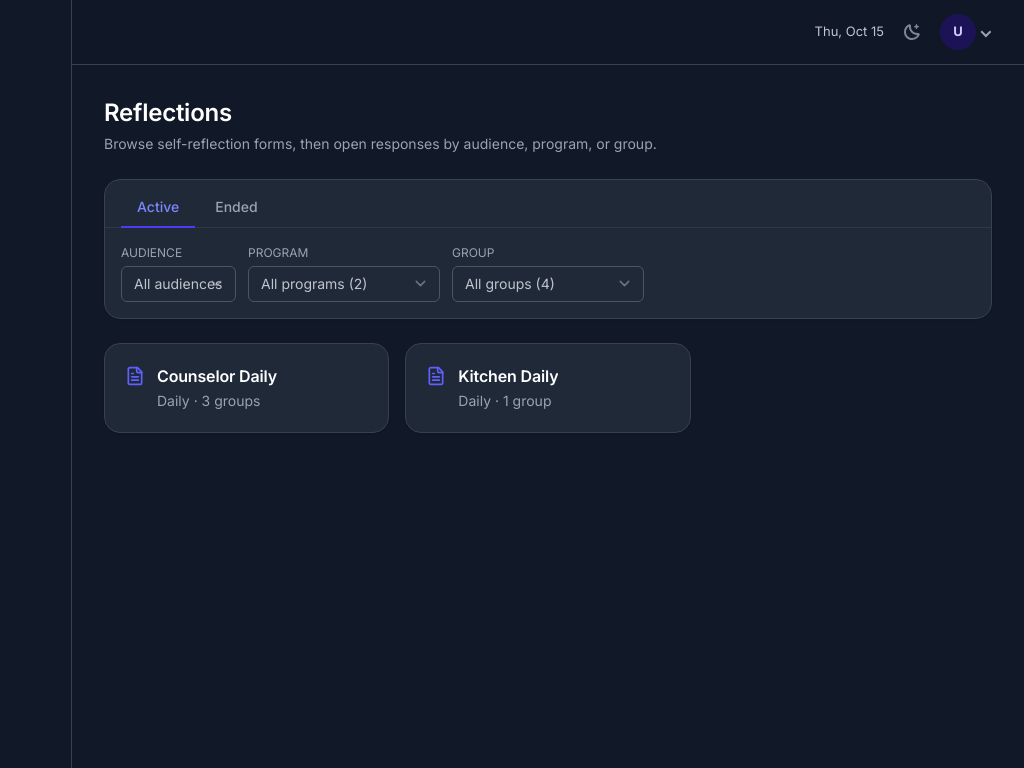
Test: ReflectionsDashboardPage › filters tiles by group
Expected: the element with test id "reflections-form-tiles" is shown, [104,343,691,433]
Select "Kitchen Staff" in the dropdown named "Filter by group". click: (548, 284)
box: [452,266,644,302]
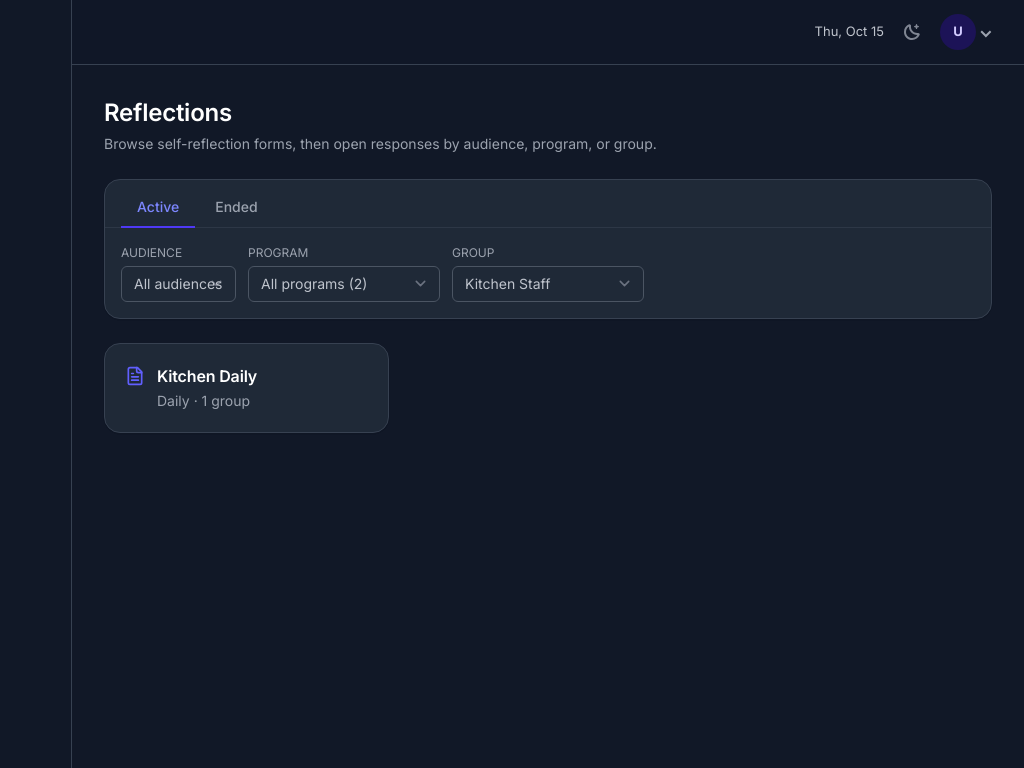
Expected: the link with test id "reflections-form-tile-20" is shown, [104,343,389,433]
Expected: the link with test id "reflections-form-tile-10" is gone
